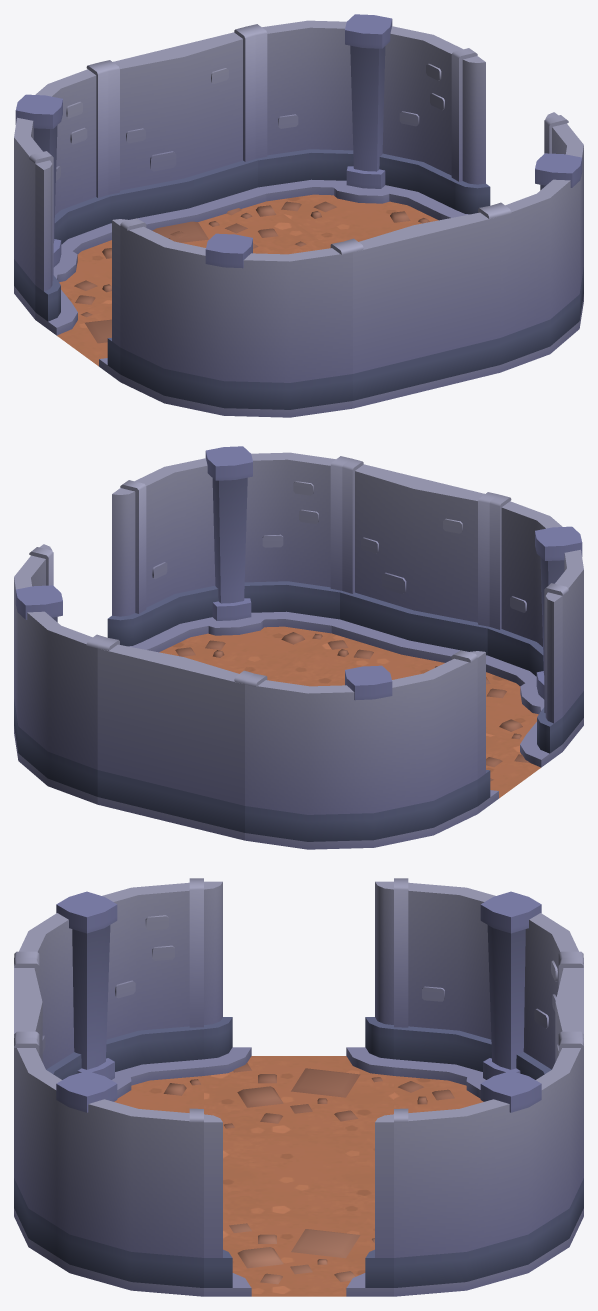
Rendered from small room 2 openings.glb.
3 renders of one model, top to bottom at view 1: azimuth 30°, elevation 25°; view 2: azimuth 150°, elevation 25°; view 3: azimuth 270°, elevation 25°, orthographic. The views are drawn at different scales.
Visible parts, largest first — view 1: room-small, template-wall.001, template-wall; view 2: room-small, template-wall, template-wall.001; view 3: room-small, template-wall.001, template-wall.
Part boxes in pixels (bbox=[...]): room-small: bbox=[14, 14, 583, 417]; template-wall.001: bbox=[99, 26, 276, 240]; template-wall: bbox=[344, 205, 500, 407]; room-small: bbox=[14, 446, 583, 849]; template-wall: bbox=[328, 458, 498, 667]; template-wall.001: bbox=[97, 637, 253, 840]; room-small: bbox=[14, 878, 583, 1296]; template-wall.001: bbox=[555, 957, 583, 1061]; template-wall: bbox=[14, 957, 42, 1061].
Size of the model in its own units: 12 by 4.23 by 12.
3 materials, 3 textured.
